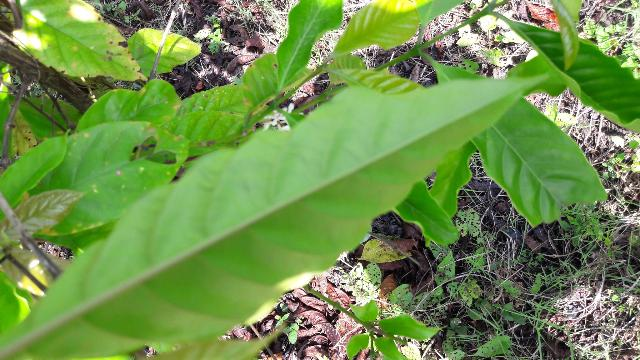healthy: (0, 76, 547, 360)
